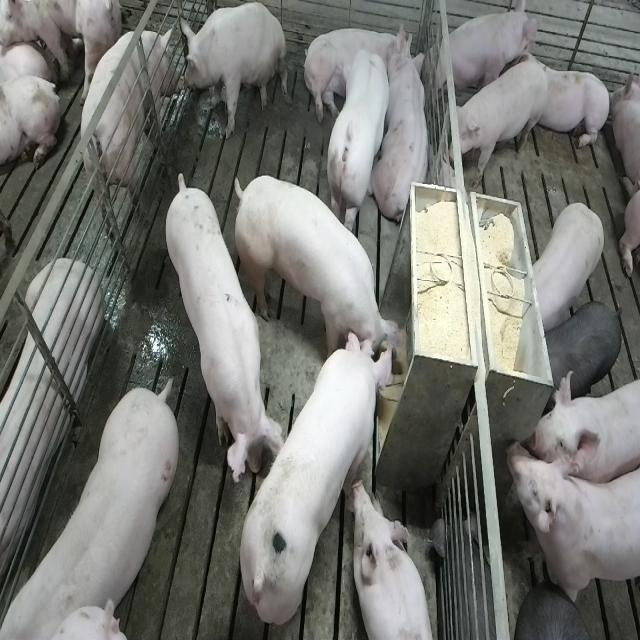Feeding: (232, 330, 392, 626), (240, 170, 414, 380)
Lateral_lying: (303, 17, 415, 122)
Sitting: (179, 3, 286, 142), (436, 1, 539, 99)
Standing: (5, 376, 184, 634), (168, 166, 288, 485), (505, 436, 638, 609), (85, 28, 185, 234), (442, 59, 546, 191), (530, 369, 636, 486), (326, 49, 389, 239), (529, 198, 605, 330), (542, 301, 623, 402), (516, 583, 602, 638)
Sternal_lying: (0, 261, 100, 598), (353, 481, 439, 640), (511, 49, 614, 157)
